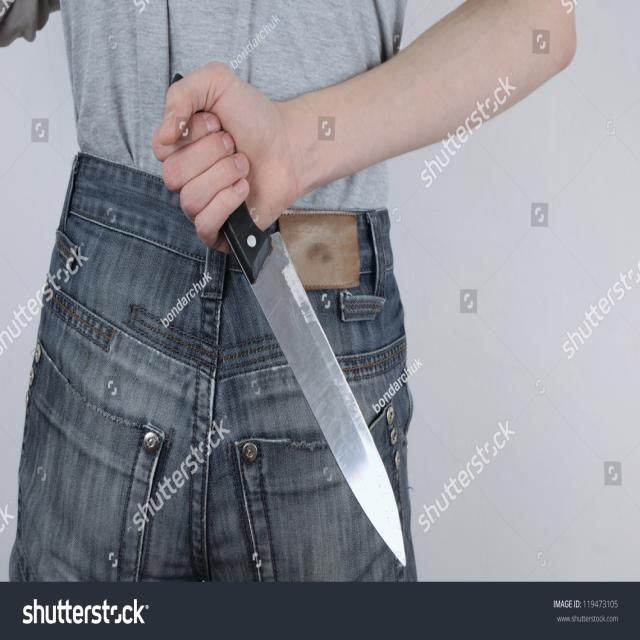knife: (231, 204, 412, 575)
